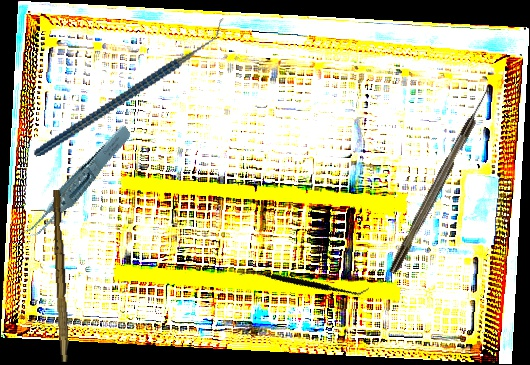Chopper: (13, 18, 246, 157)
Hook Surgical: (386, 84, 495, 276)
Scalpel Handle: (49, 189, 73, 363)
Spatula Surgical: (237, 229, 371, 335)
Tissue Forceps: (0, 123, 150, 242)
